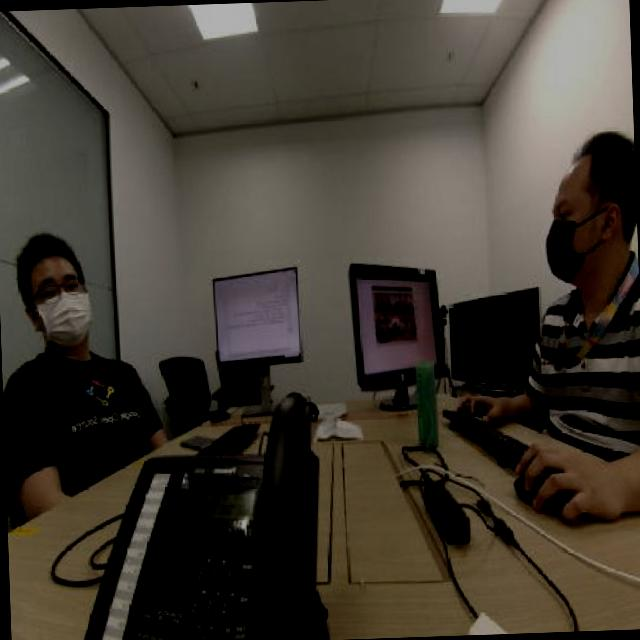Person: (520, 115, 640, 470), (13, 241, 156, 447)
